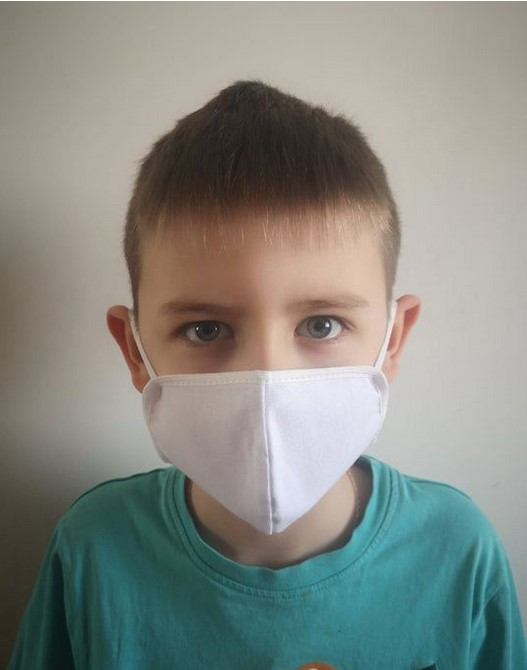face_with_mask: (102, 86, 420, 539)
